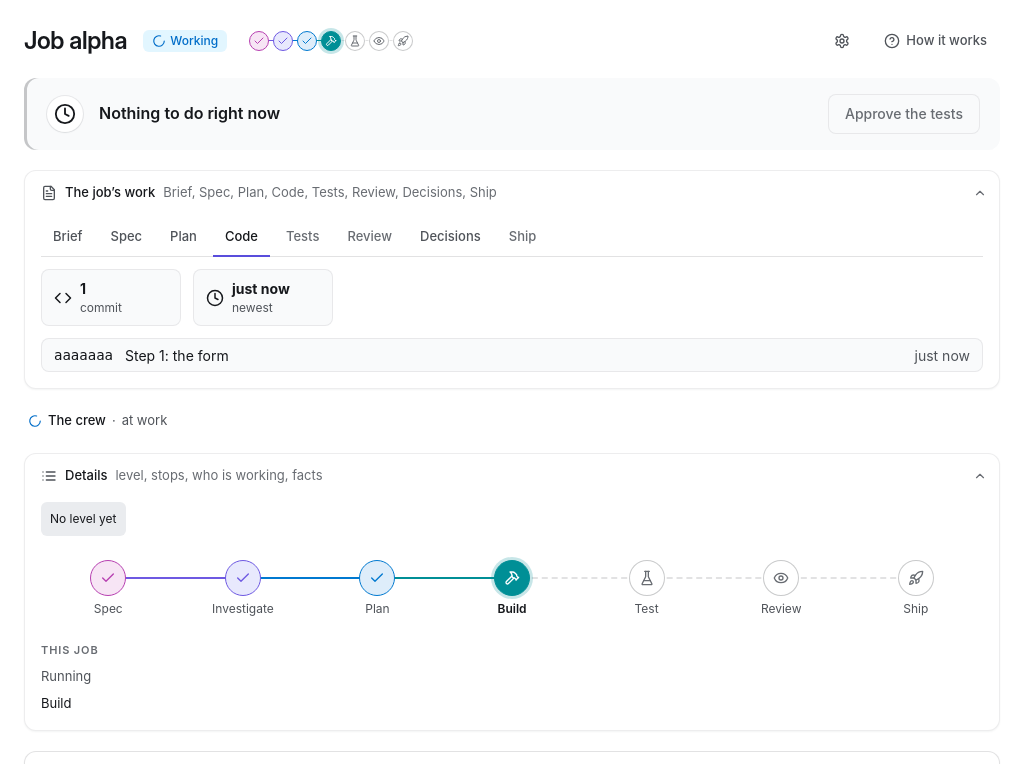
Test: the tabs › the Code tab shows a commit’s change with its + and − kept
Click the button "aaaaaaa Step 1: the form just now".
click(84, 354)  # box [41,338,983,372]
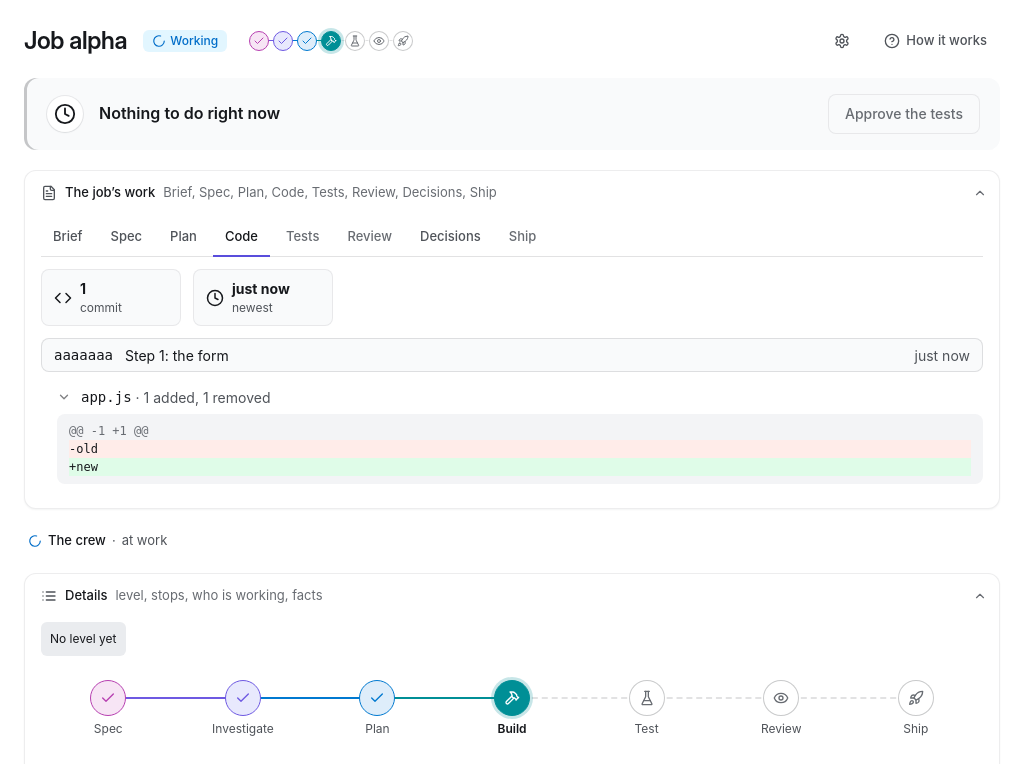
Check: the text "app.js" is shown, box [81,386,132,408]
